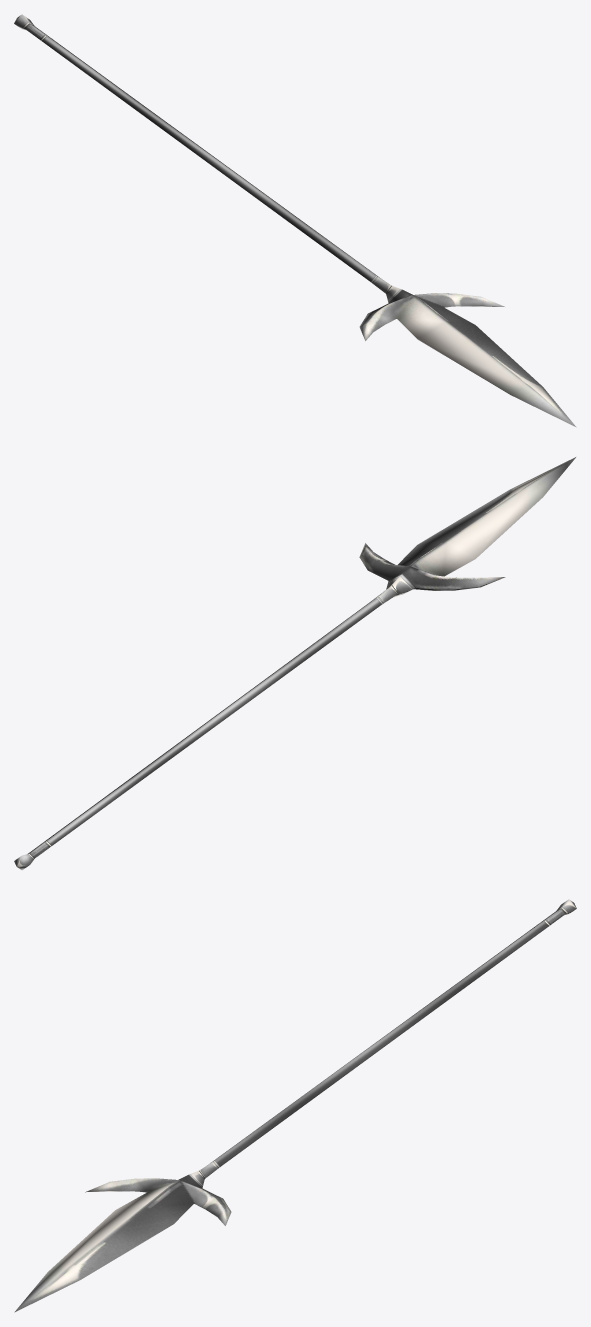
Rendered from lance0016.fbx.
The picture shows the model from 3 angles, top to bottom: view 1: azimuth 30°, elevation 25°; view 2: azimuth 150°, elevation 25°; view 3: azimuth 330°, elevation 25°; orthographic projection.
Visible parts, largest first — view 1: lance0016_m; view 2: lance0016_m; view 3: lance0016_m.
Boxes of the visible parts, x1,y1,x2,y2 form: lance0016_m: (14,14,576,427); lance0016_m: (14,457,575,870); lance0016_m: (14,899,576,1312).
Bounding box in the file's own units: 0.211 × 0.0355 × 1.46.
1 material, 1 textured.
